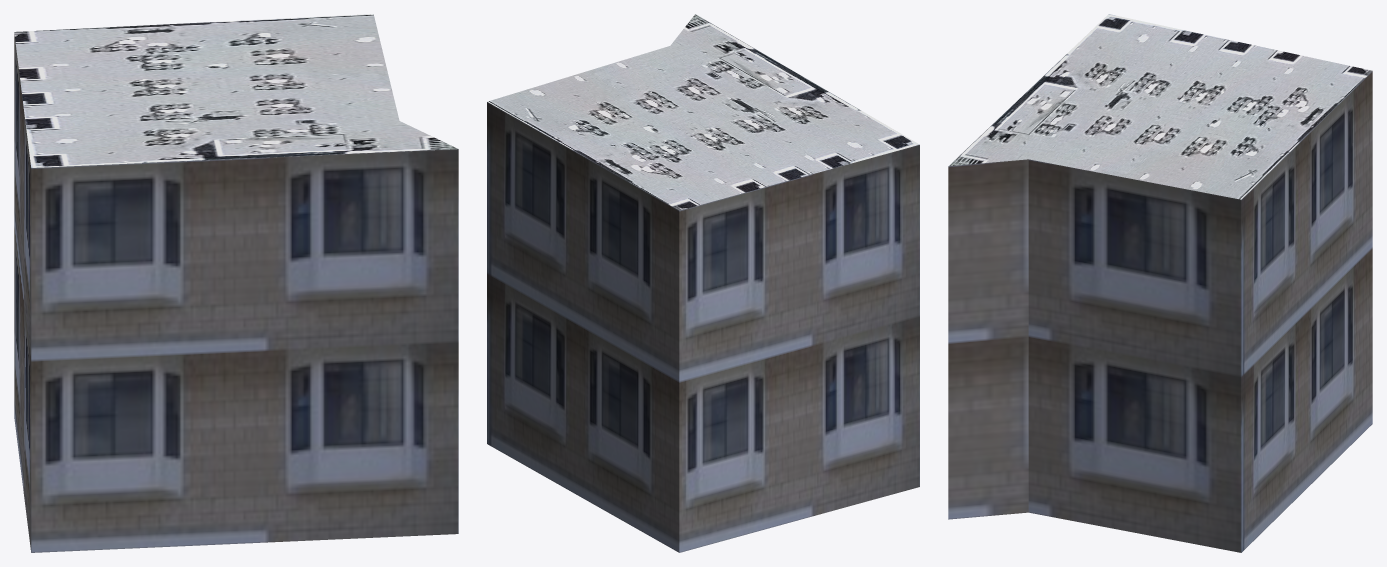
File: ResTex__4576.fbx
3 views of the same model, side by side, from view 1: azimuth 30°, elevation 25°; view 2: azimuth 150°, elevation 25°; view 3: azimuth 270°, elevation 25° (orthographic). The views are drawn at different scales.
Visible parts, largest first — view 1: CityEngineMaterial_3_m, CityEngineMaterial_4_m; view 2: CityEngineMaterial_3_m, CityEngineMaterial_4_m; view 3: CityEngineMaterial_3_m, CityEngineMaterial_4_m.
Boxes of the visible parts, left/top/right/bottom form: CityEngineMaterial_3_m: left=14, top=34, right=458, bottom=552; CityEngineMaterial_4_m: left=14, top=14, right=457, bottom=167; CityEngineMaterial_3_m: left=487, top=102, right=919, bottom=552; CityEngineMaterial_4_m: left=487, top=14, right=919, bottom=210; CityEngineMaterial_3_m: left=948, top=71, right=1372, bottom=552; CityEngineMaterial_4_m: left=948, top=14, right=1372, bottom=199.
Size of the model in its own units: 6.77 by 6 by 6.53.
2 materials, 2 textured.
